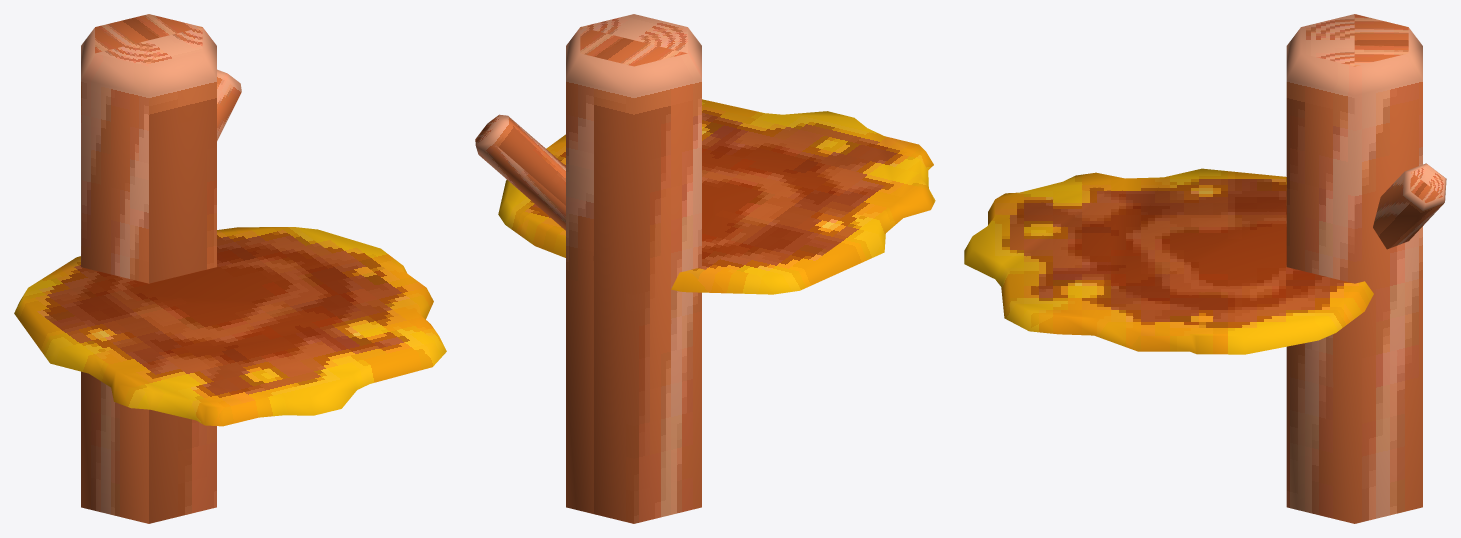
Rendered from int_msh_chairS_A.dae.
3 renders of one model, left to right at view 1: azimuth 30°, elevation 25°; view 2: azimuth 150°, elevation 25°; view 3: azimuth 270°, elevation 25°, orthographic.
Visible parts, largest first — view 1: int_msh_chairS_A; view 2: int_msh_chairS_A; view 3: int_msh_chairS_A.
Boxes of the visible parts, left/top/right/bottom form: int_msh_chairS_A: left=14, top=14, right=446, bottom=523; int_msh_chairS_A: left=475, top=14, right=935, bottom=523; int_msh_chairS_A: left=964, top=14, right=1446, bottom=523.
Bounding box in the file's own units: 24.91 × 30 × 29.1.
2 materials, 2 textured.
